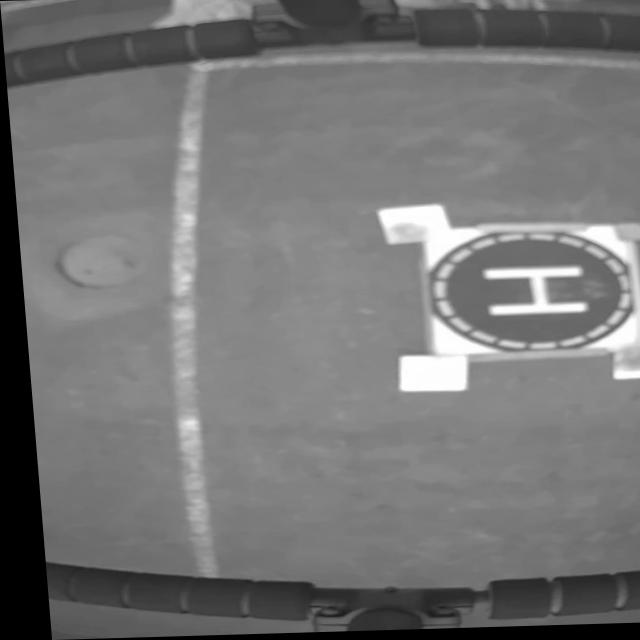Helipad: (477, 271, 585, 318)
